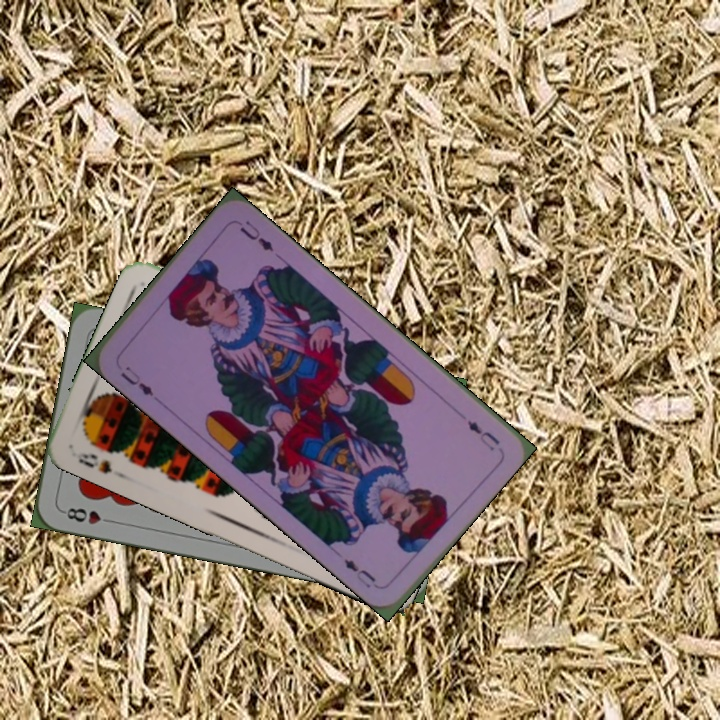EU: (116, 361, 157, 400), (463, 415, 503, 454)
H8: (58, 503, 117, 527)
S8: (67, 445, 124, 480)
